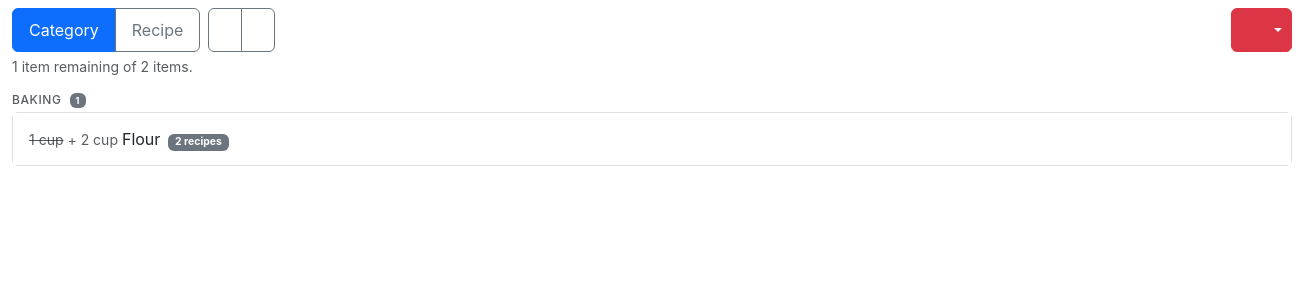
it: ShoppingList › shows partial grouped state with struck-through checked quantity and recipe button
Expected: the text "1 cup" is shown, top-left (29, 131), bottom-right (64, 148)
Click the button with aria-label "Show recipe groups".
click(158, 30)  # box top-left (115, 8), bottom-right (200, 52)
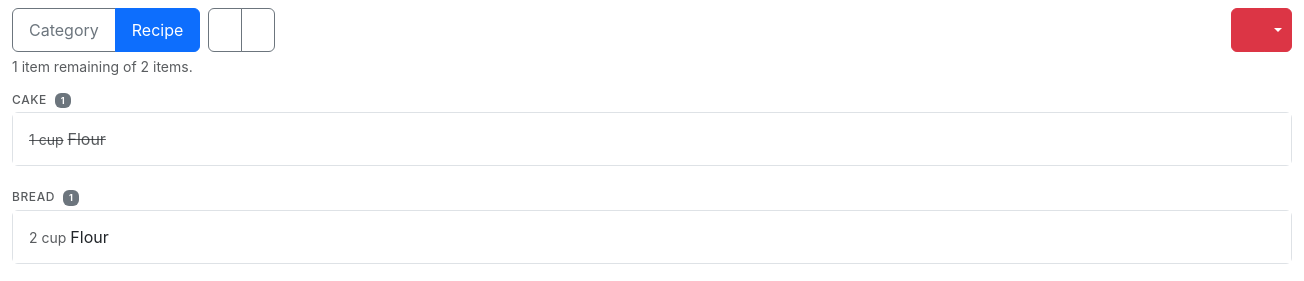
Expected: the text "Cake" is shown, top-left (12, 92), bottom-right (47, 107)
Expected: the text "Bread" is shown, top-left (12, 189), bottom-right (55, 204)
